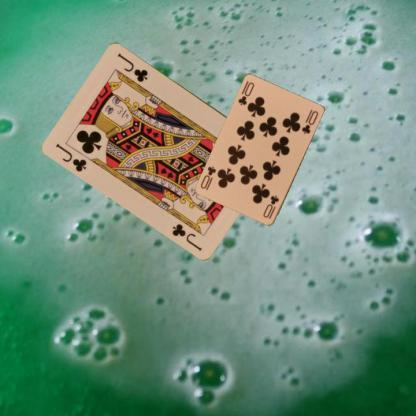10c: (235, 80, 256, 107), (260, 193, 280, 221)
Jc: (53, 140, 89, 174)
